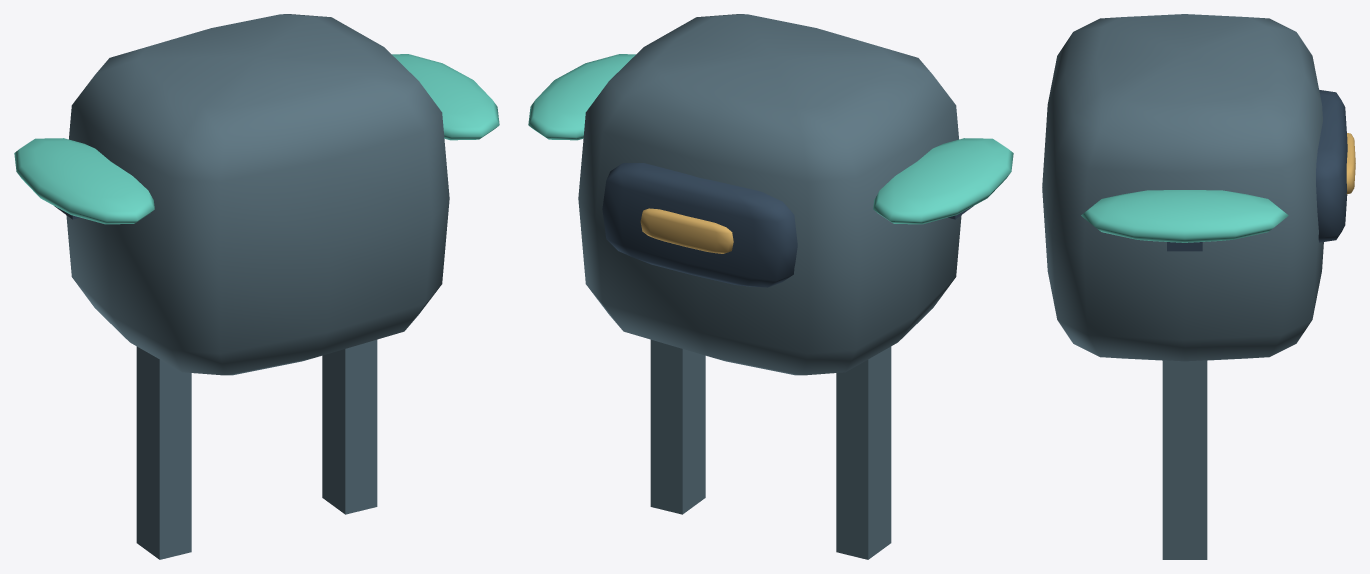
Rendered from drone.glb.
3 renders of one model, left to right at view 1: azimuth 30°, elevation 25°; view 2: azimuth 150°, elevation 25°; view 3: azimuth 270°, elevation 25°, orthographic. The views are drawn at different scales.
Parts seen in each view (by area): view 1: drone; view 2: drone; view 3: drone.
Part boxes in pixels (x1,y1,x2,y2): drone: (14, 14, 499, 559); drone: (528, 14, 1013, 559); drone: (1042, 14, 1355, 559).
Size of the model in its own units: 1.66 by 1.69 by 1.05.
